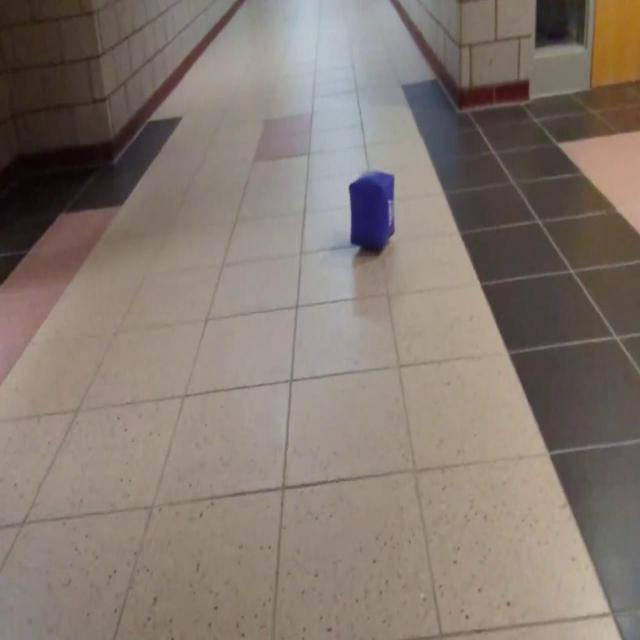frc_cube: (348, 170, 394, 252)
